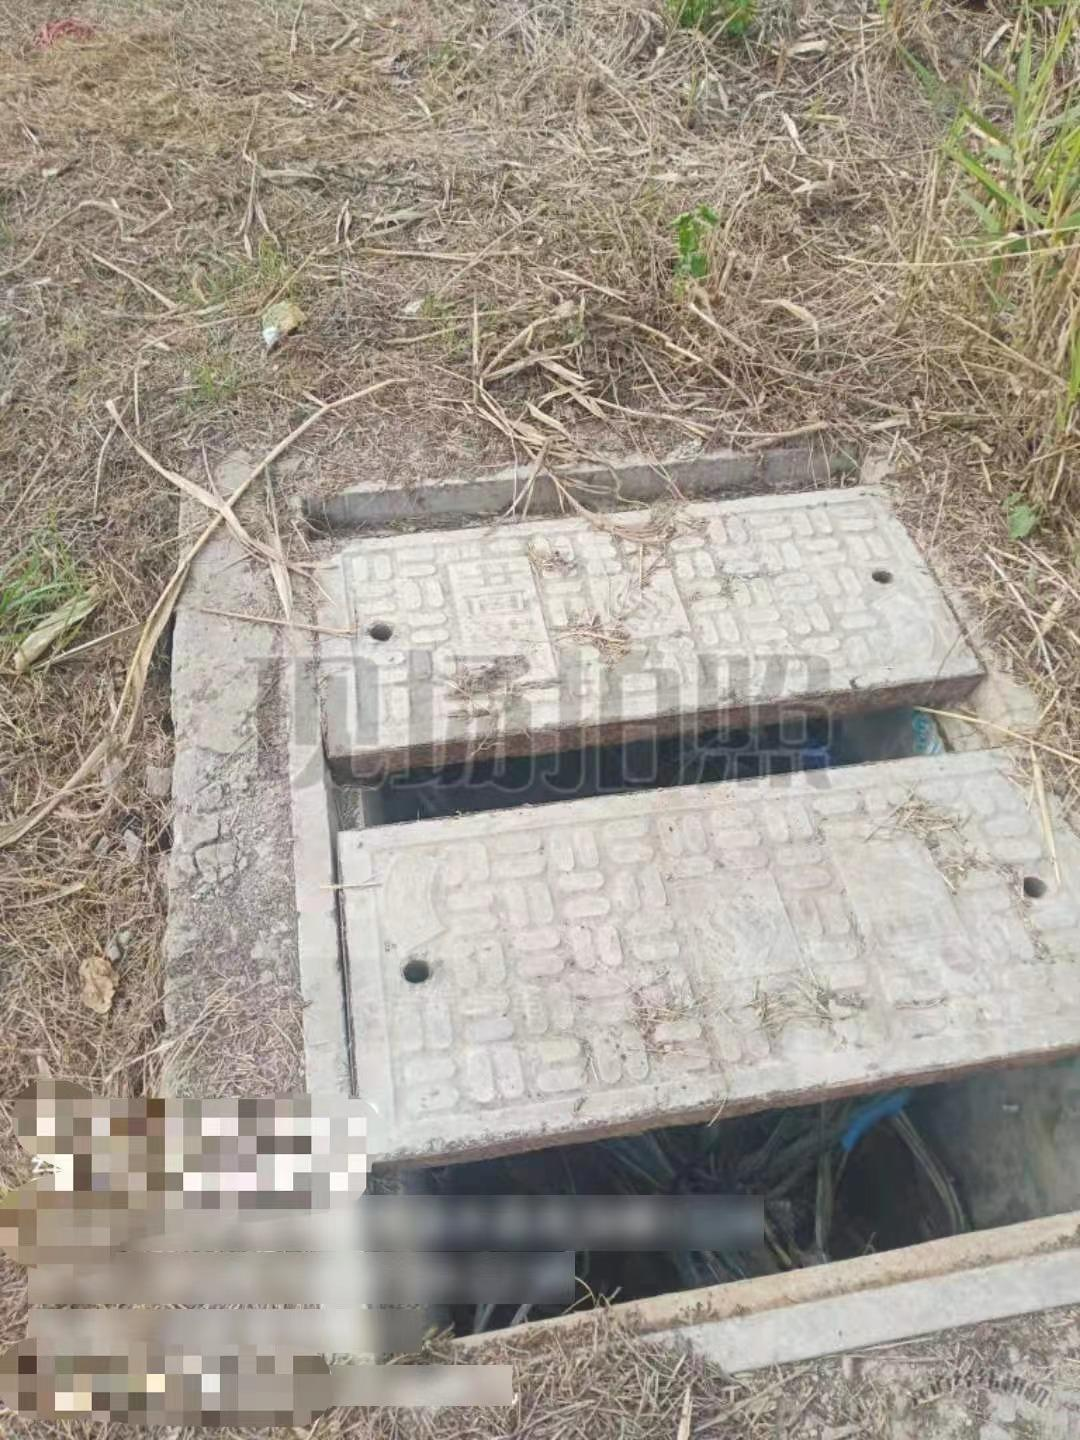wellcover: (180, 438, 1080, 1384)
